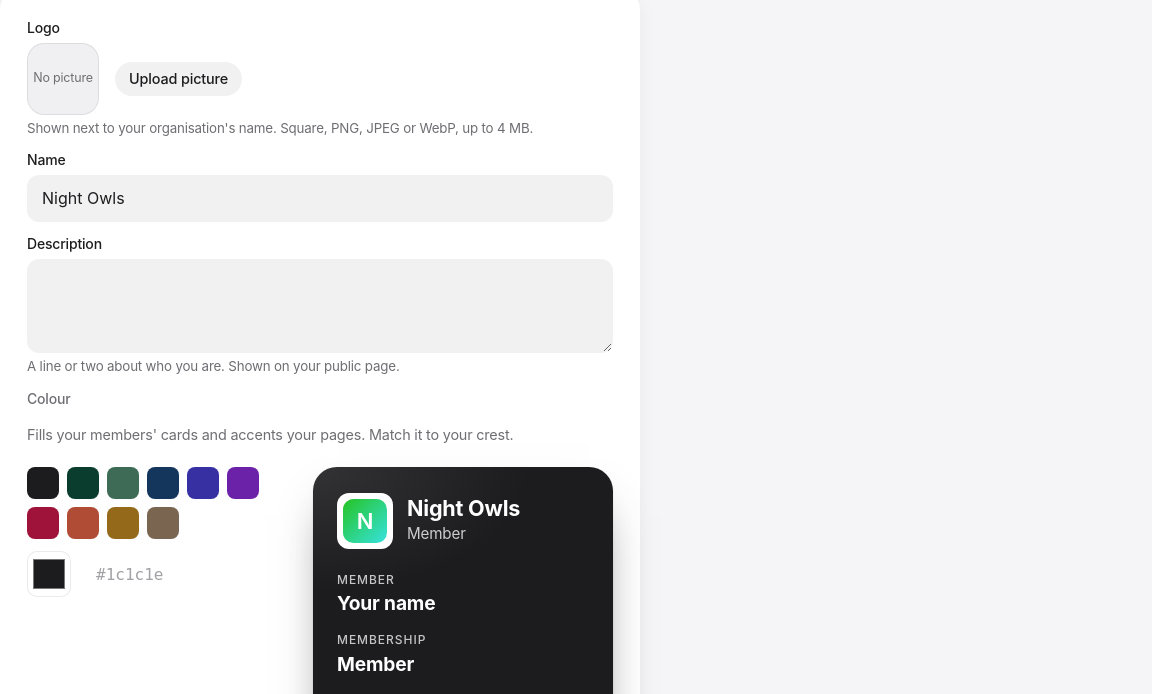
Scenario: SettingsTab › waits for a whole colour code before using it
Type "#12" into the field named "Colour code" at (141, 574), box [81,551,201,598]
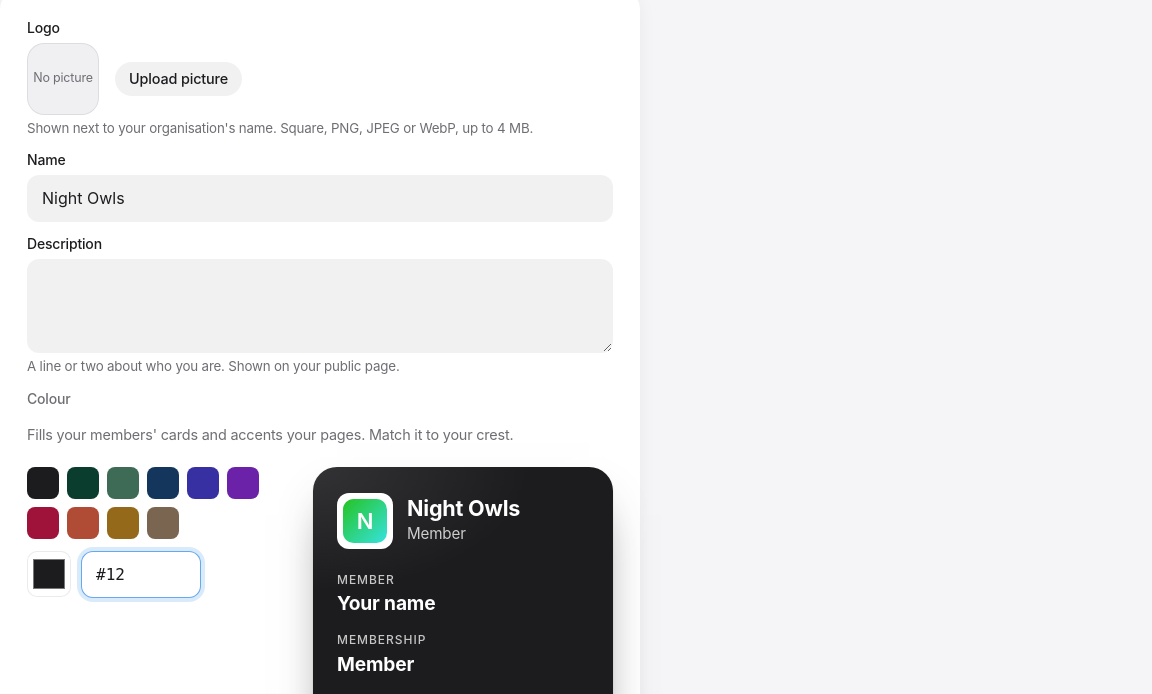
Type "3456" into the field named "Colour code" at (141, 574), box [81,551,201,598]
(page scrolled)
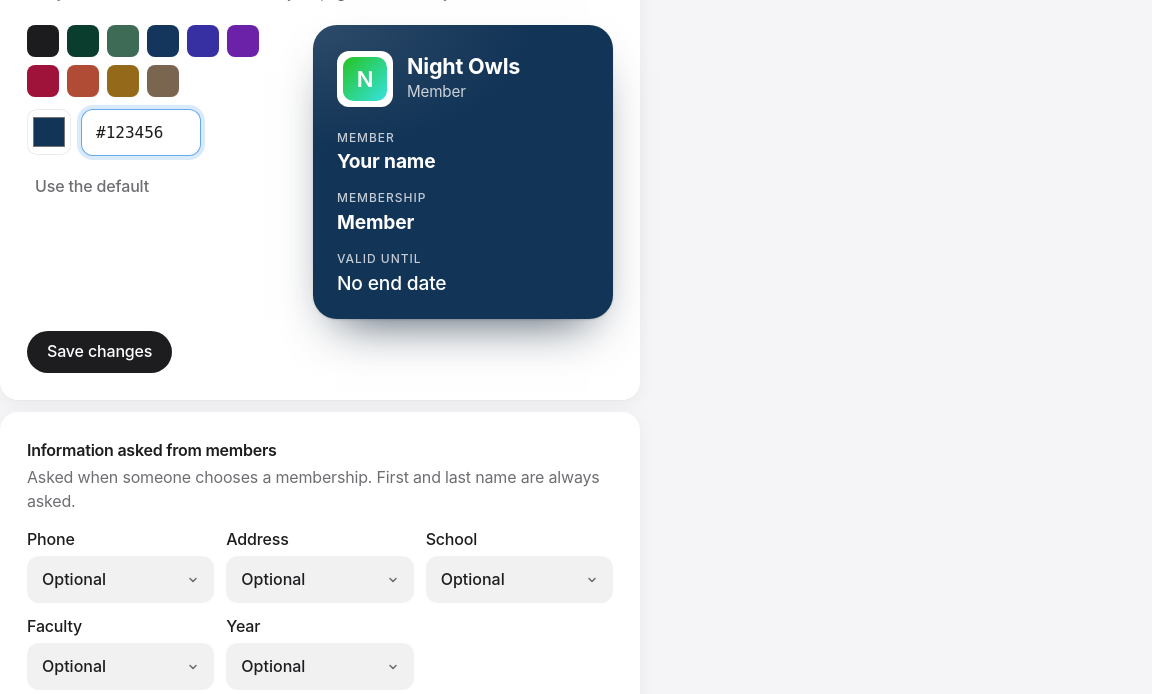
Expected: the button "Save changes" is enabled, [27,331,172,373]
